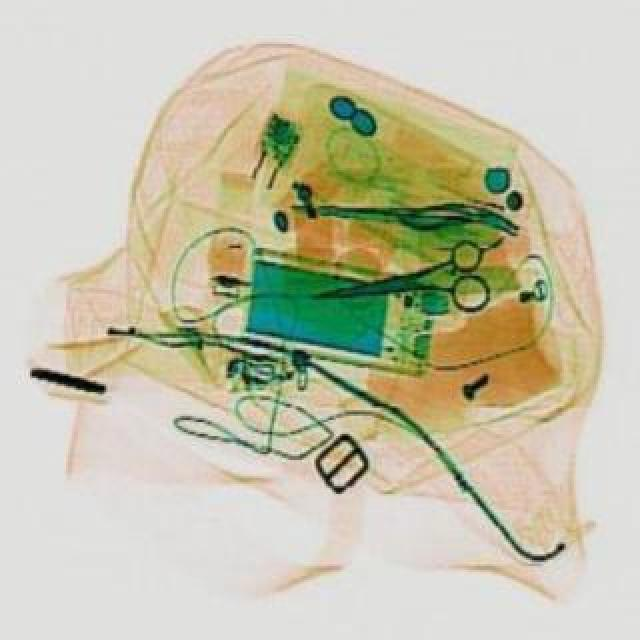pliers: (306, 242, 490, 338)
